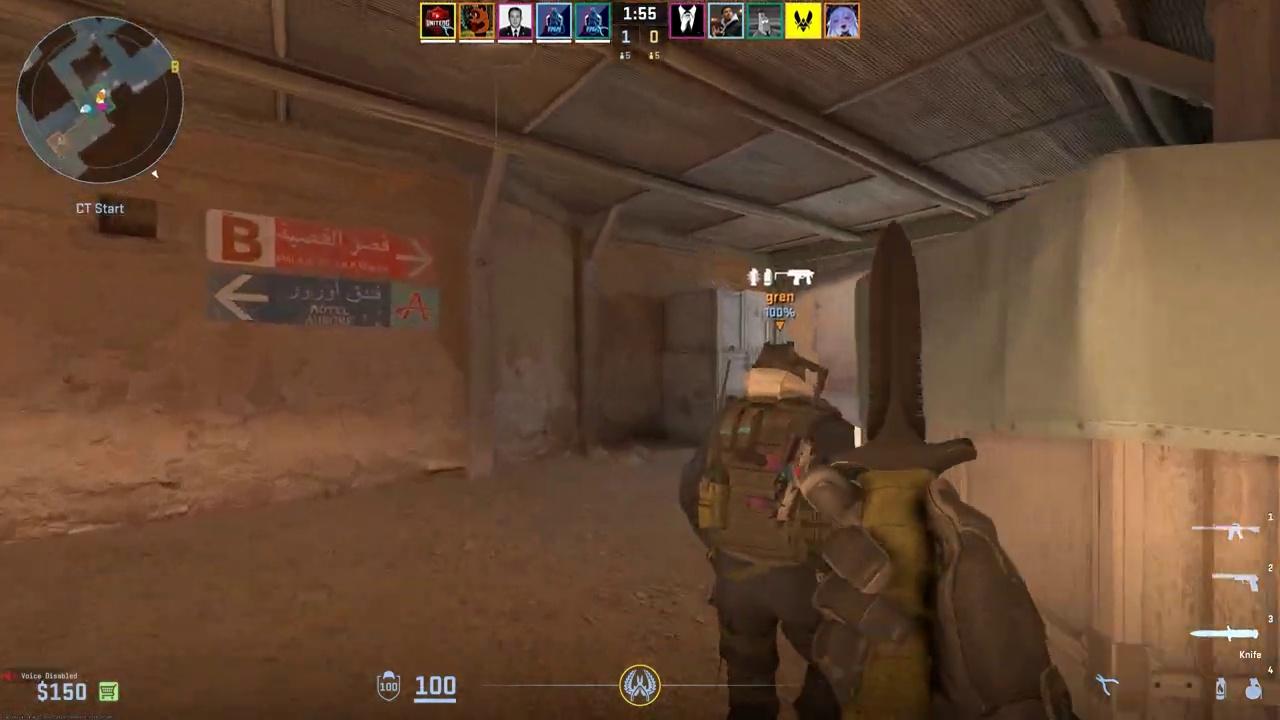CT: (693, 340, 857, 720)
